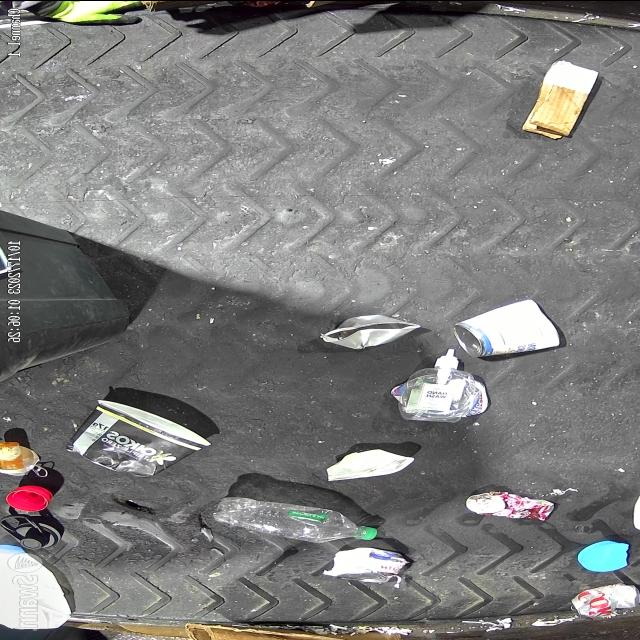can: (452, 297, 562, 358), (319, 313, 421, 349), (466, 490, 556, 521), (568, 582, 640, 620), (331, 547, 406, 581)
milk_jug: (0, 544, 72, 628)
plastic_bottle: (212, 496, 378, 542)
